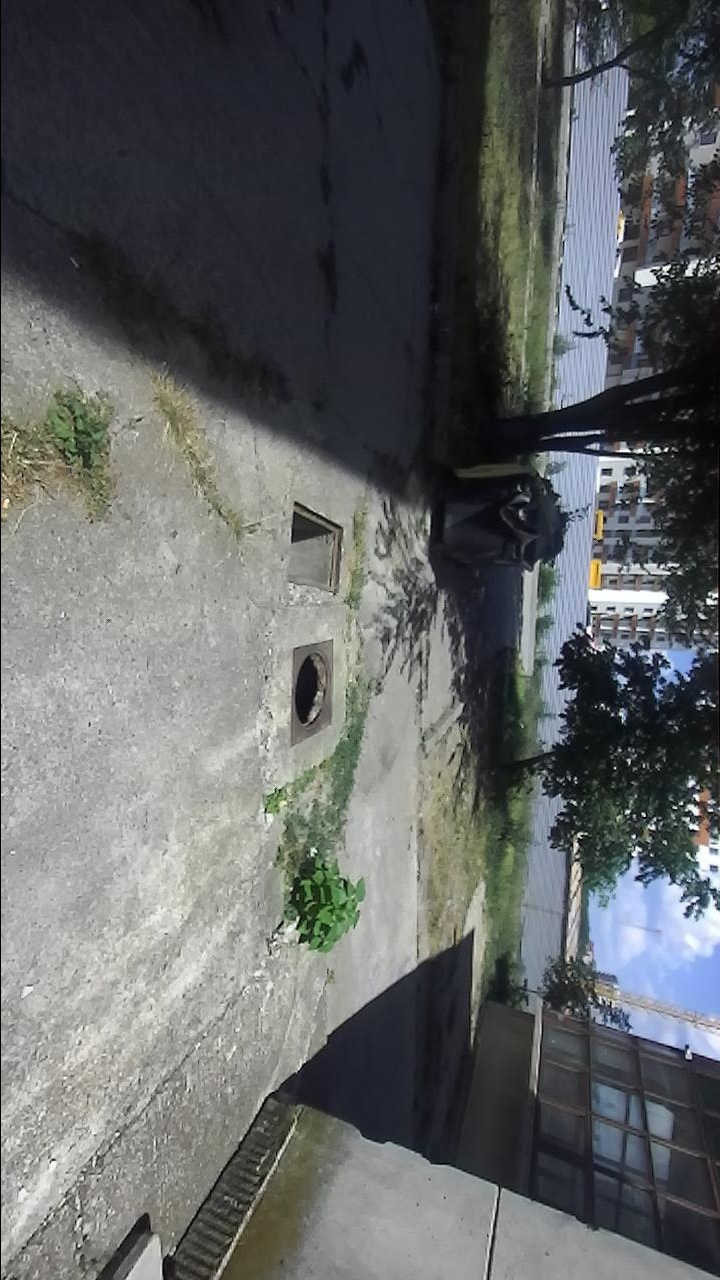drain: (285, 497, 347, 594), (291, 649, 333, 730)
